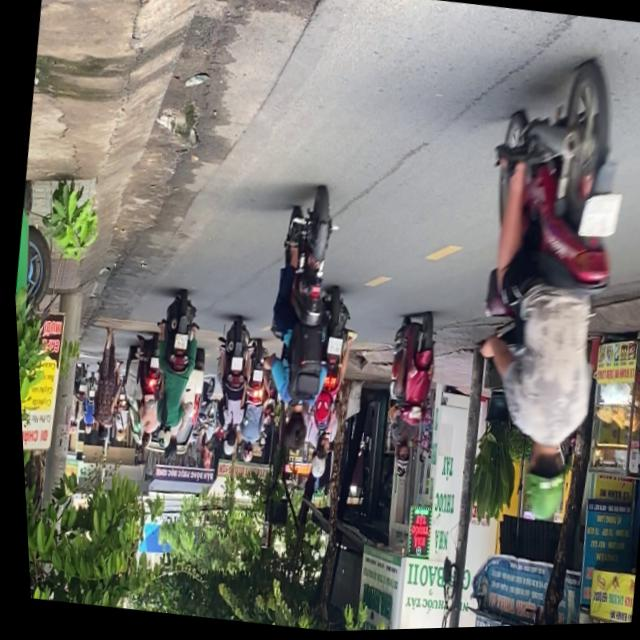helmet: (511, 445, 569, 529), (304, 451, 325, 483), (389, 446, 408, 478), (150, 426, 169, 452), (160, 440, 174, 465)
licenseplate: (436, 52, 640, 536), (243, 186, 350, 467), (291, 290, 363, 486), (367, 310, 447, 482), (136, 291, 208, 467)
motorcyclist: (275, 407, 307, 456), (306, 432, 328, 463)
nohelmet: (576, 197, 622, 245), (323, 340, 340, 358), (170, 335, 186, 353)
